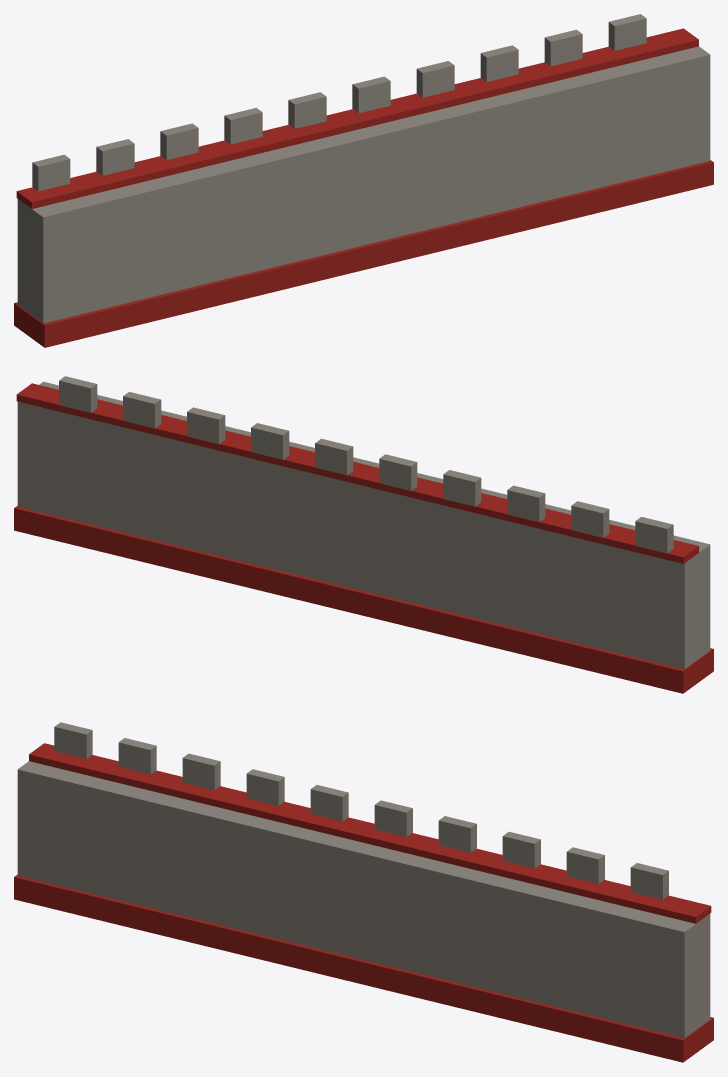
File: dragon_wall.glb
3 views of the same model, one above another, from view 1: azimuth 30°, elevation 25°; view 2: azimuth 150°, elevation 25°; view 3: azimuth 330°, elevation 25° (orthographic).
Parts seen in each view (by area): view 1: dragon_wall; view 2: dragon_wall; view 3: dragon_wall.
Part boxes in pixels (left/top/right/bottom): dragon_wall: left=14, top=14, right=713, bottom=347; dragon_wall: left=14, top=376, right=713, bottom=693; dragon_wall: left=14, top=722, right=713, bottom=1062.
Size of the model in its own units: 6.27 by 1.43 by 0.5.
